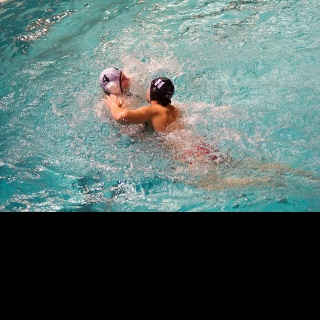without_mask: (146, 84, 149, 102)
